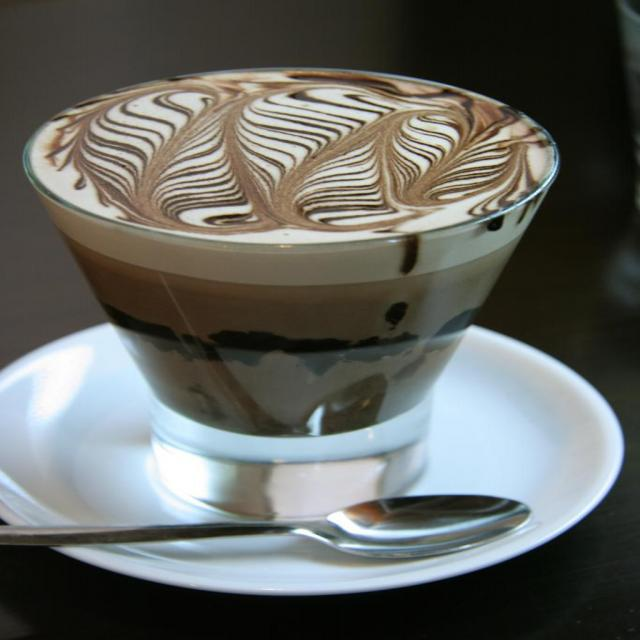Coffee: (23, 37, 568, 482)
